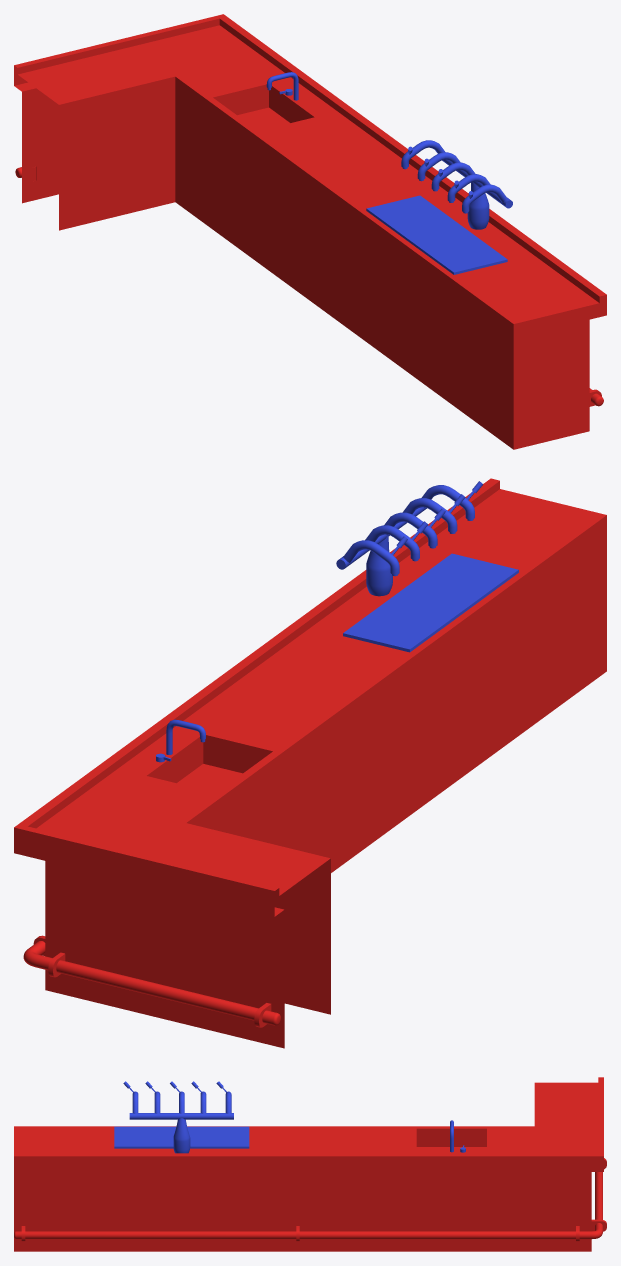
File: m_Bar.fbx
3 renders of one model, top to bottom at view 1: azimuth 30°, elevation 25°; view 2: azimuth 150°, elevation 25°; view 3: azimuth 270°, elevation 25°, orthographic. The views are drawn at different scales.
Parts seen in each view (by area): view 1: Bar_LP; view 2: Bar_LP; view 3: Bar_LP.
Boxes of the visible parts, x1,y1,x2,y2 form: Bar_LP: [14, 14, 606, 449]; Bar_LP: [14, 478, 606, 1048]; Bar_LP: [14, 1077, 606, 1251].
Size of the model in its own units: 122 by 110 by 388.
